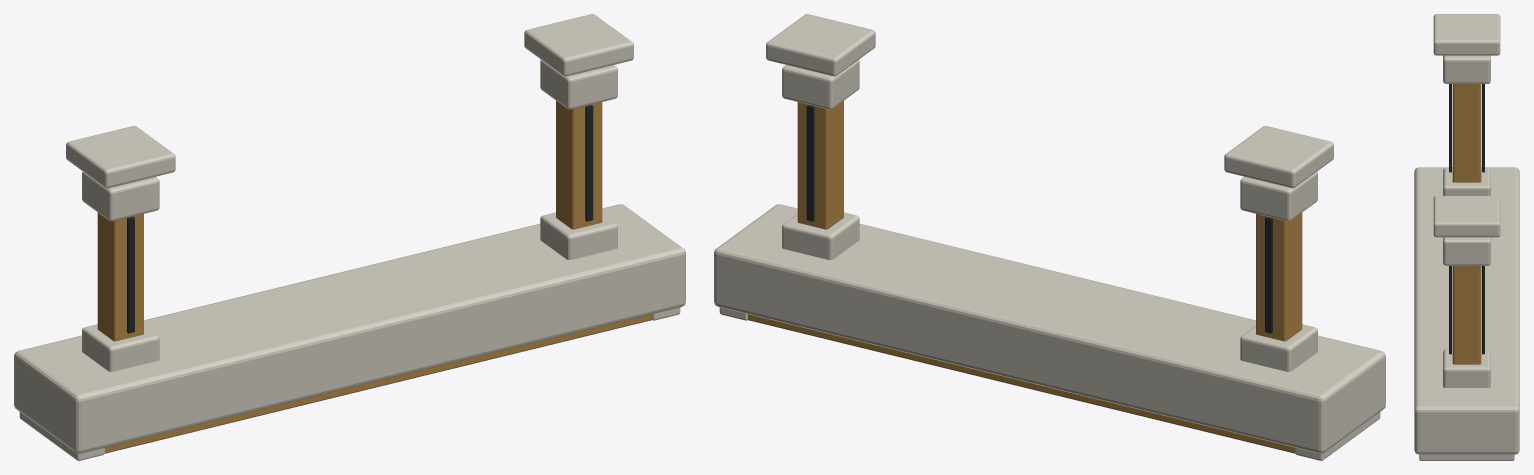
The model's file is SM_Aurelion_KIT_GateLantern.fbx.
3 renders of one model, left to right at view 1: azimuth 30°, elevation 25°; view 2: azimuth 150°, elevation 25°; view 3: azimuth 270°, elevation 25°, orthographic. The views are drawn at different scales.
Visible parts, largest first — view 1: SM_Aurelion_KIT_GateLantern; view 2: SM_Aurelion_KIT_GateLantern; view 3: SM_Aurelion_KIT_GateLantern.
Boxes of the visible parts, x1=… form: SM_Aurelion_KIT_GateLantern: x1=14, y1=14, x2=685, y2=460; SM_Aurelion_KIT_GateLantern: x1=714, y1=14, x2=1385, y2=460; SM_Aurelion_KIT_GateLantern: x1=1414, y1=14, x2=1519, y2=460.
Size of the model in its own units: 240 by 44 by 104.
